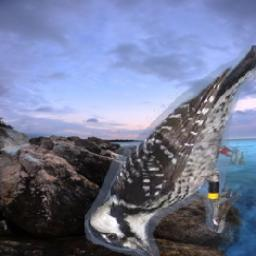Woodpecker: (85, 45, 256, 256)
